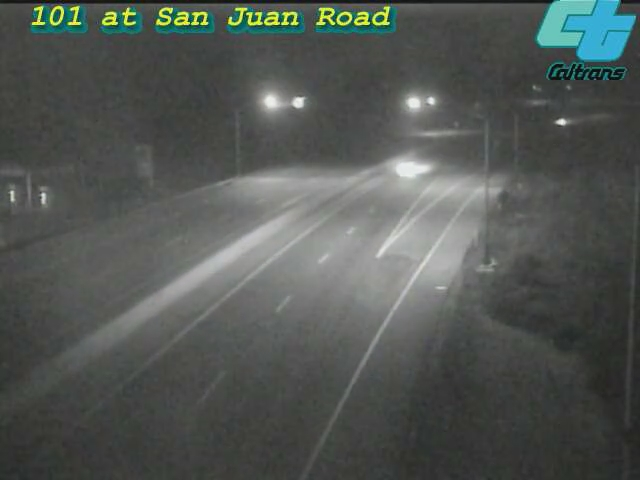vehicle: (373, 127, 453, 207), (536, 97, 586, 147)
